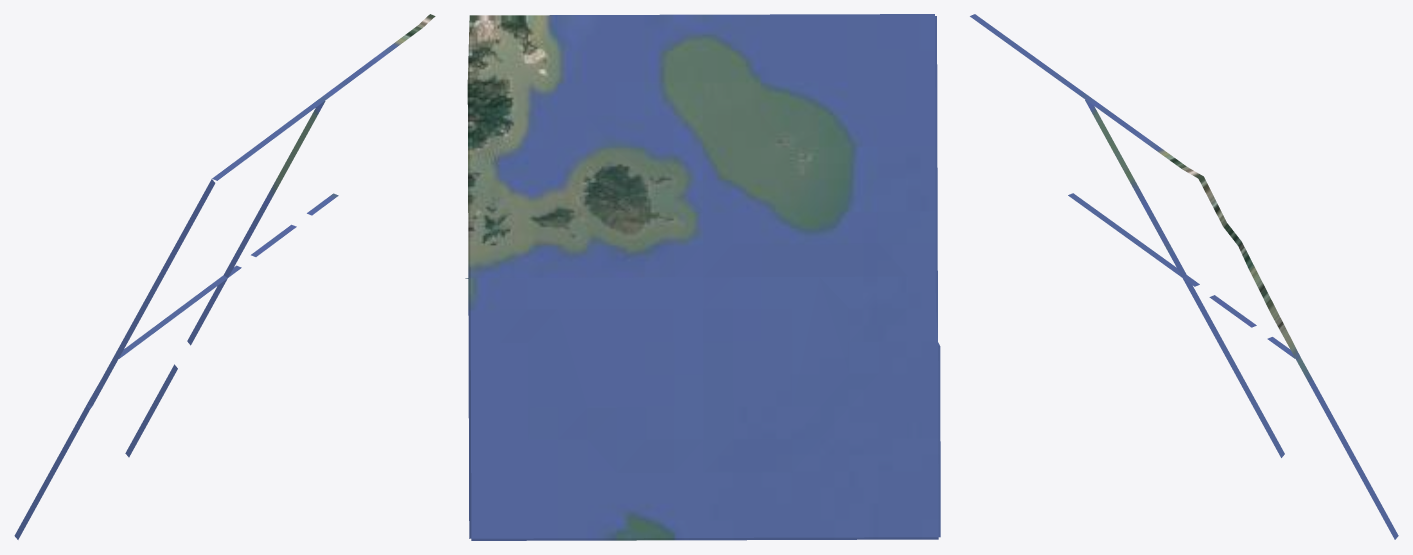
3 views of the same model, side by side, from view 1: azimuth 30°, elevation 25°; view 2: azimuth 150°, elevation 25°; view 3: azimuth 270°, elevation 25° (orthographic). The views are drawn at different scales.
Size of the model in its own units: 39443 by 35387 by 33435.
Materials: 1 (1 with a texture image).
